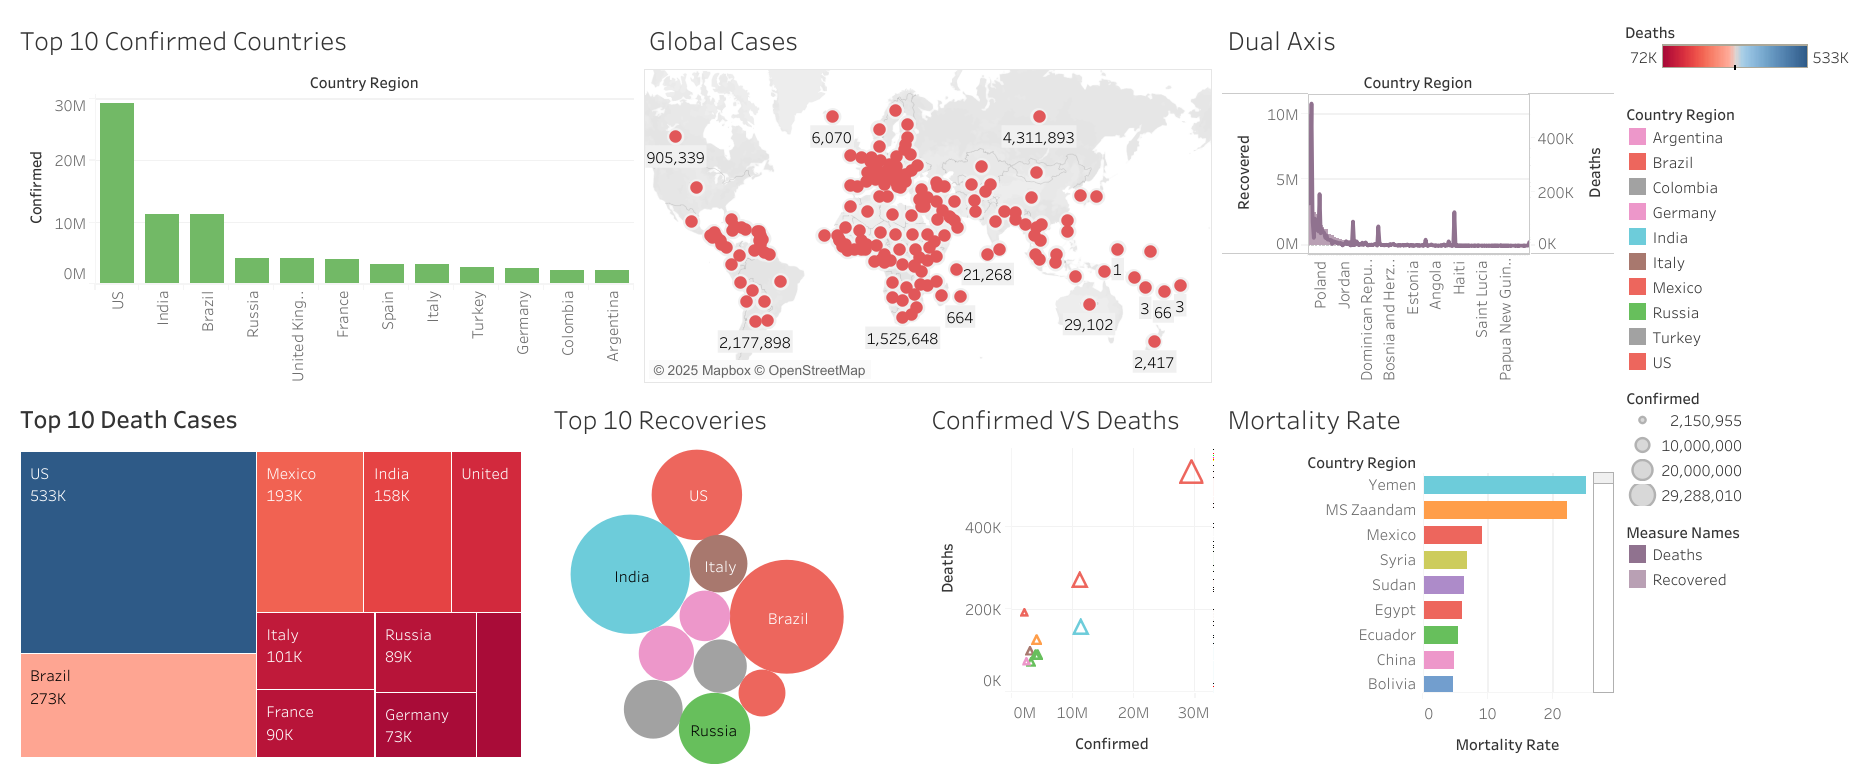

What the dashboard file says about the page in this screenshot:
{"tool":"tableau","page":{"name":"Dashboard 1","canvas":[1000,1000],"units":"permille","ordinal":0},"visuals":[{"type":"worksheet","title":"Top 10 Confirmed Countries","mark":"Automatic","rows":["Confirmed"],"cols":["Country Region"],"box":[6.8,12.9,321.5,486.4]},{"type":"worksheet","title":"Gobal Cases","mark":"Automatic","box":[328.3,12.9,295.3,486.4]},{"type":"worksheet","title":"Dual Axis","mark":"Line","rows":["Recovered","Deaths"],"cols":["Country Region"],"box":[623.6,12.9,205.7,486.4]},{"type":"legend","title":"Top 10 Death Cases","param":"[federated.0t08wpp14thgm515fkxth1y16b1g].[sum:Deaths:qk]","box":[829.2,12.9,164,117.7]},{"type":"legend","title":"Recovery Cases","param":"[federated.0t08wpp14thgm515fkxth1y16b1g].[none:Country Region:nk]","box":[829.2,130.6,164,387.1]},{"type":"worksheet","title":"Top 10 Death Cases","mark":"Automatic","box":[6.8,499.3,272.6,487.8]},{"type":"worksheet","title":"Recovery Cases","mark":"Circle","box":[279.4,499.3,193.1,487.8]},{"type":"worksheet","title":"Confirmed VS Deaths","mark":"Automatic","rows":["Deaths"],"cols":["Confirmed"],"box":[472.5,499.3,151.1,487.8]},{"type":"worksheet","title":"Mortality Rate","mark":"Automatic","rows":["Country Region"],"cols":["Mortality Rate"],"box":[623.6,499.3,205.6,487.8]},{"type":"legend","title":"Confirmed VS Deaths","param":"[federated.0t08wpp14thgm515fkxth1y16b1g].[sum:Confirmed:qk]","box":[829.2,517.7,164,183.9]},{"type":"legend","title":"Dual Axis","param":"[federated.0t08wpp14thgm515fkxth1y16b1g].[:Measure Names]","box":[829.2,701.6,164,116.1]}]}

Visuals, with their boxes on the dashboard's canvas, which has no fixed pixel size, in thousandths of its width and height (x1, y1, x2, y2). These are canvas units, not pixel positions in the 1870x778 screenshot, which may show the page scaled, cropped or inside an application window:
"Top 10 Confirmed Countries" worksheet: crop(7, 13, 328, 499)
"Gobal Cases" worksheet: crop(328, 13, 624, 499)
"Dual Axis" worksheet (Line marks): crop(624, 13, 829, 499)
"Top 10 Death Cases" legend: crop(829, 13, 993, 131)
"Recovery Cases" legend: crop(829, 131, 993, 518)
"Top 10 Death Cases" worksheet: crop(7, 499, 279, 987)
"Recovery Cases" worksheet (Circle marks): crop(279, 499, 472, 987)
"Confirmed VS Deaths" worksheet: crop(472, 499, 624, 987)
"Mortality Rate" worksheet: crop(624, 499, 829, 987)
"Confirmed VS Deaths" legend: crop(829, 518, 993, 702)
"Dual Axis" legend: crop(829, 702, 993, 818)
